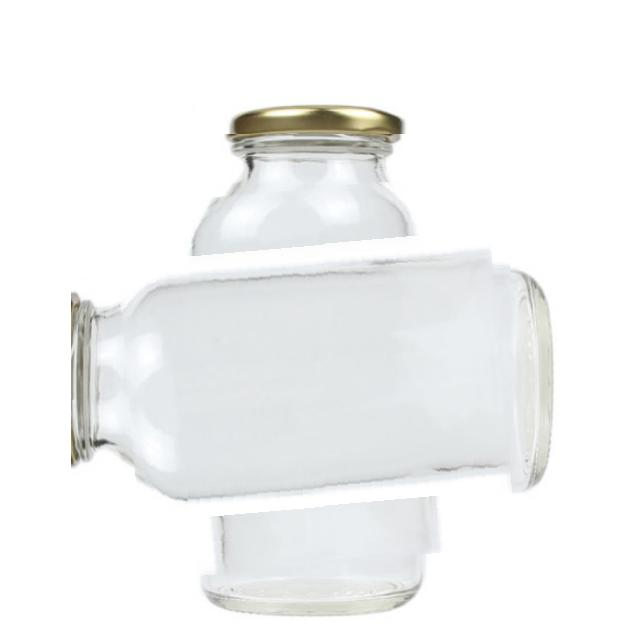recyclable: (120, 182, 510, 573)
